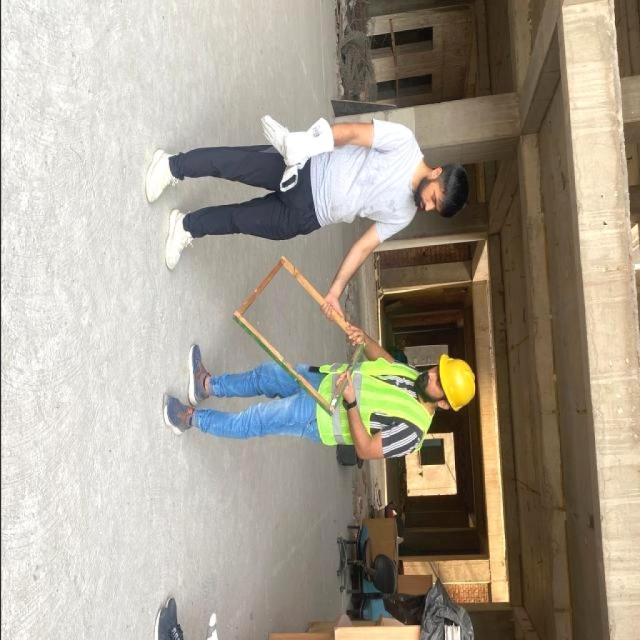Gloves-Detection: (253, 112, 341, 180)
